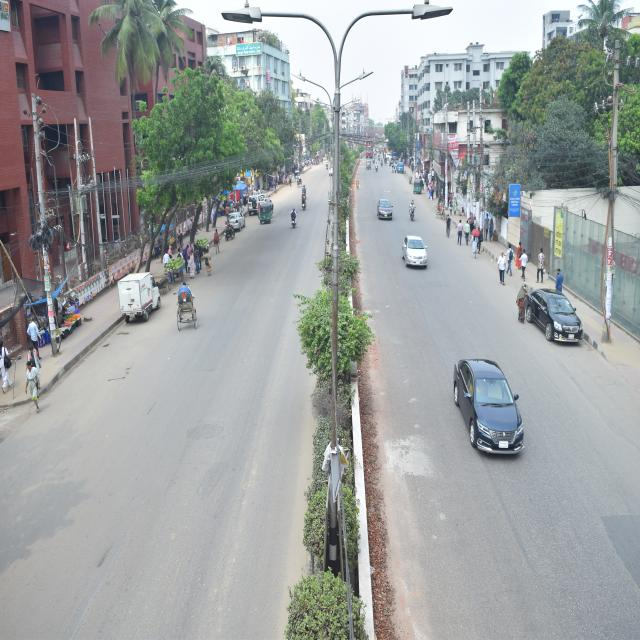bus: (363, 131, 377, 161)
car: (447, 332, 534, 499), (526, 278, 594, 374), (396, 227, 433, 282), (374, 192, 401, 236), (242, 180, 273, 212), (224, 208, 245, 241)
motorbike: (286, 203, 305, 239), (401, 190, 419, 225), (295, 182, 312, 216)
pickup-van: (105, 252, 163, 330)
